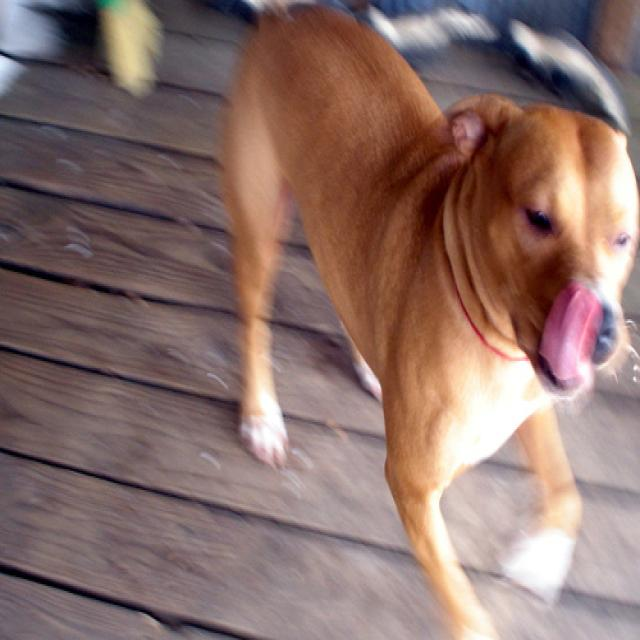dog: (180, 1, 639, 639)
